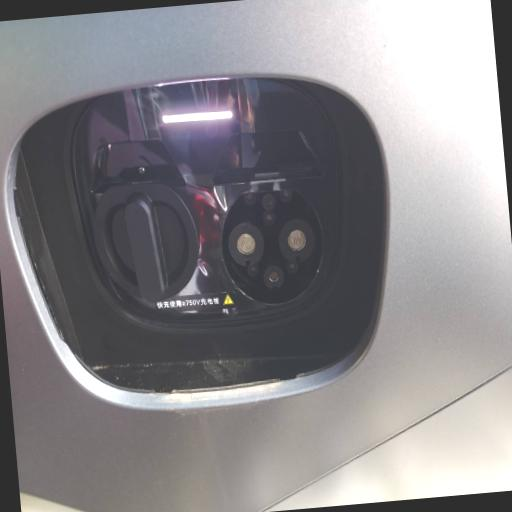DC_charging_port: (216, 180, 330, 312)
DC_hole: (276, 215, 320, 267), (225, 218, 268, 270)
PE: (262, 262, 287, 292)
